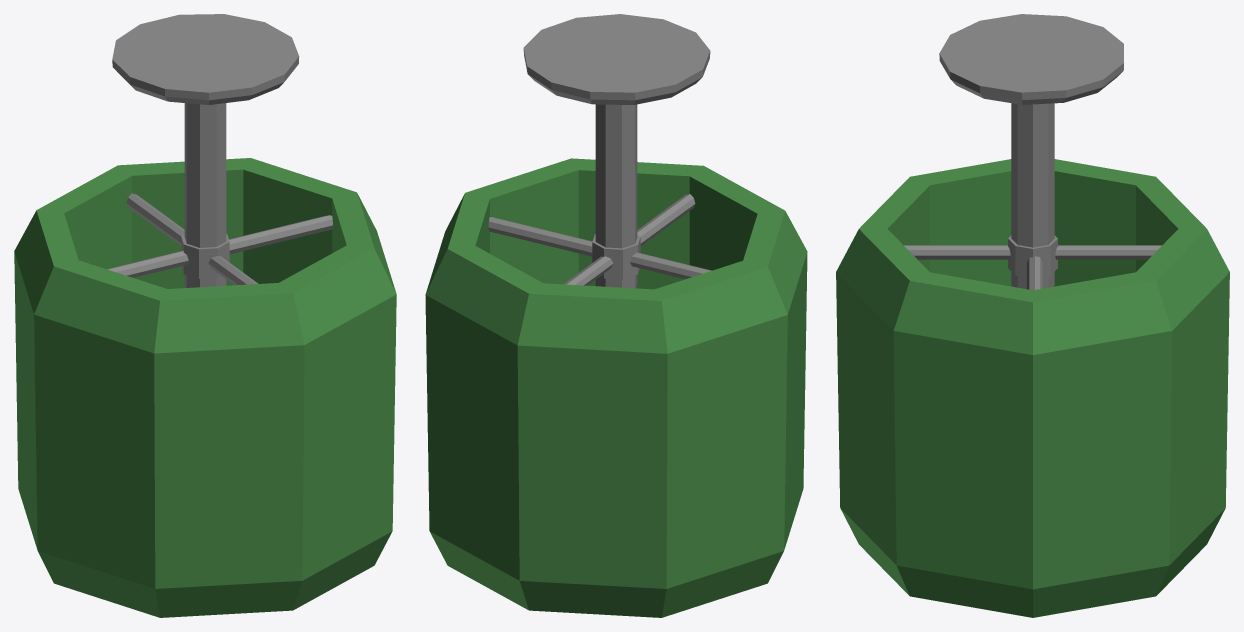
Rendered from Ceiling Light.glb.
3 renders of one model, left to right at view 1: azimuth 30°, elevation 25°; view 2: azimuth 150°, elevation 25°; view 3: azimuth 270°, elevation 25°, orthographic.
Parts seen in each view (by area): view 1: Ceiling Light; view 2: Ceiling Light; view 3: Ceiling Light.
Boxes of the visible parts, x1=… form: Ceiling Light: x1=14, y1=14, x2=396, y2=617; Ceiling Light: x1=425, y1=14, x2=807, y2=617; Ceiling Light: x1=836, y1=14, x2=1229, y2=617.
Bounding box in the file's own units: 307 × 423 × 307.
